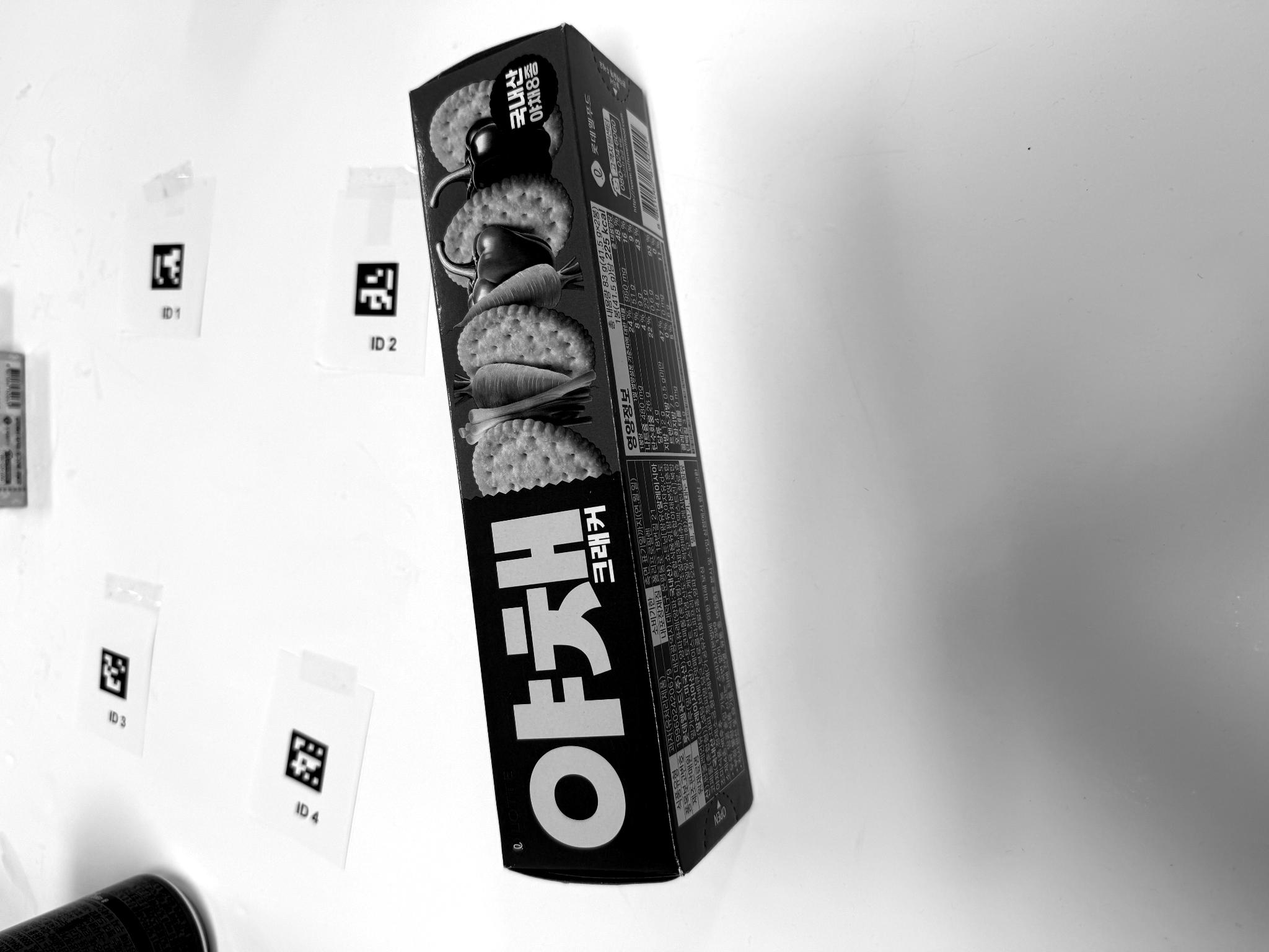cracker_vege: (410, 25, 753, 882)
